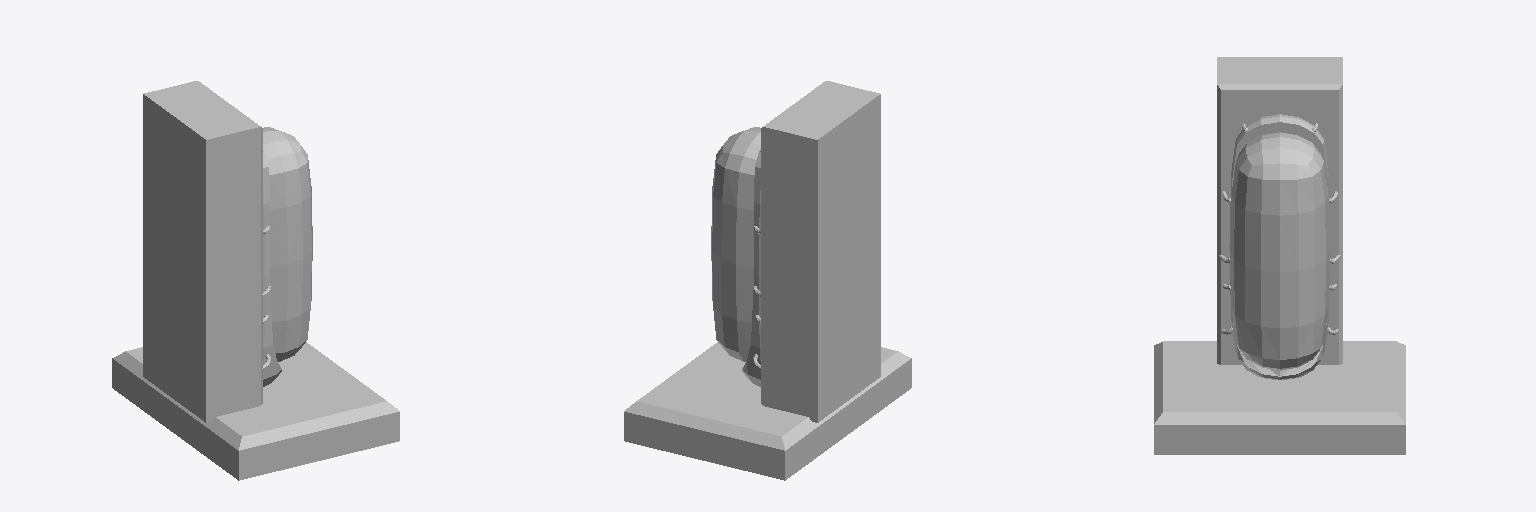
Rendered from Krio.OBJ.
The picture shows the model from 3 angles: view 1: azimuth 30°, elevation 25°; view 2: azimuth 150°, elevation 25°; view 3: azimuth 270°, elevation 25°; orthographic projection.
Parts seen in each view (by area): view 1: Group46436; view 2: Group46436; view 3: Group46436.
Part boxes in pixels (left/top/right/bottom): Group46436: left=112, top=81, right=399, bottom=480; Group46436: left=624, top=81, right=911, bottom=480; Group46436: left=1154, top=57, right=1405, bottom=454.
Bounding box in the file's own units: 1.11 × 2.08 × 1.5.